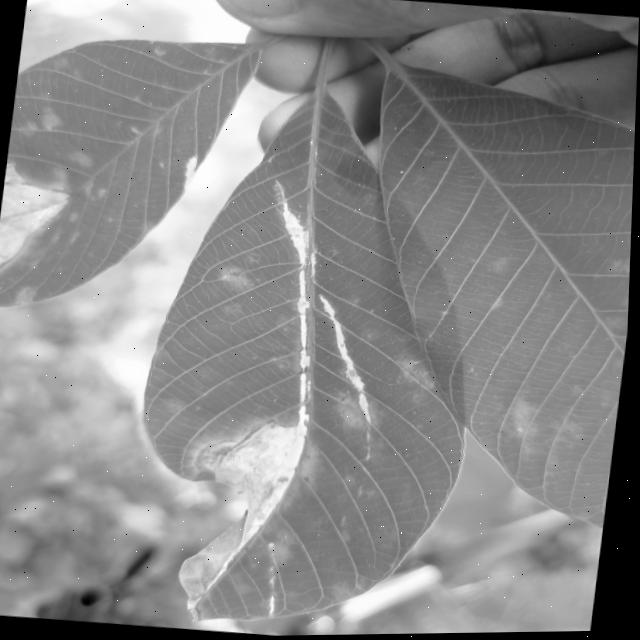Leaf-Blight: (177, 396, 314, 630), (308, 296, 388, 424), (290, 270, 324, 374), (277, 201, 316, 268), (300, 373, 312, 405), (272, 597, 280, 615)
